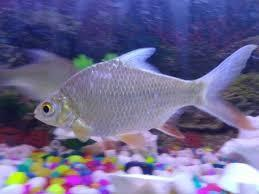Silver Barb: (34, 45, 259, 150)
